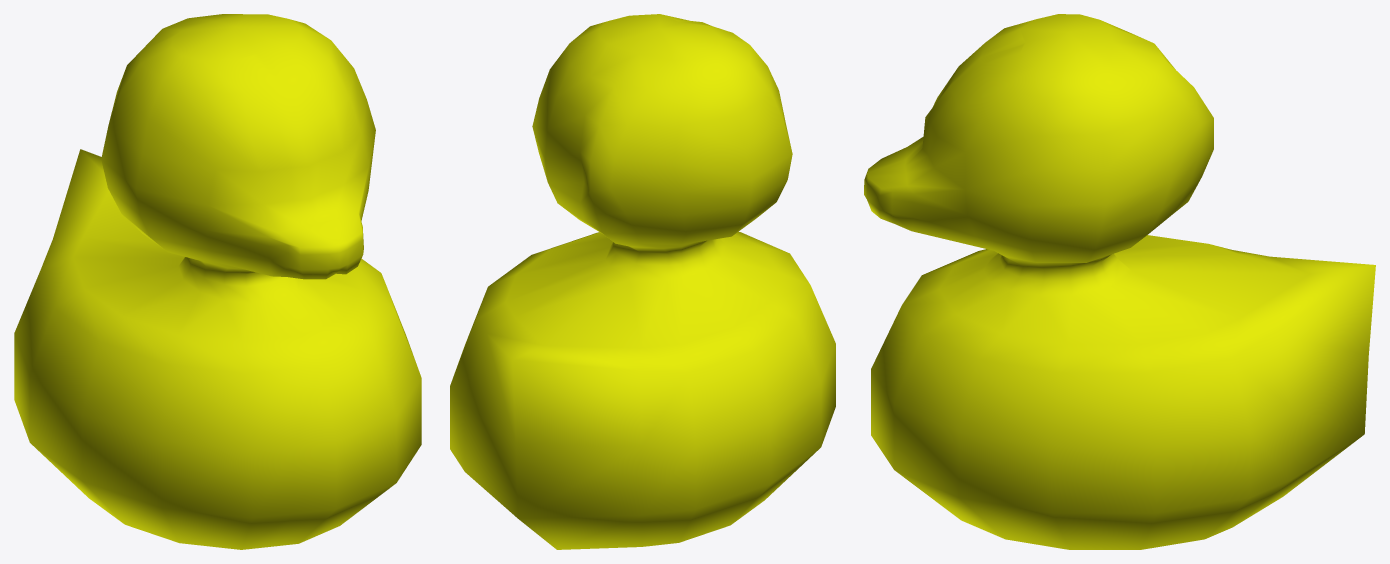
The model's file is duck.fbx.
3 renders of one model, left to right at view 1: azimuth 30°, elevation 25°; view 2: azimuth 150°, elevation 25°; view 3: azimuth 270°, elevation 25°, orthographic. The views are drawn at different scales.
Visible parts, largest first — view 1: Cylinder; view 2: Cylinder; view 3: Cylinder.
Part boxes in pixels (left/top/right/bottom): Cylinder: left=14, top=14, right=421, bottom=549; Cylinder: left=450, top=14, right=835, bottom=549; Cylinder: left=864, top=14, right=1375, bottom=549.
Bounding box in the file's own units: 195 × 271 × 271.
